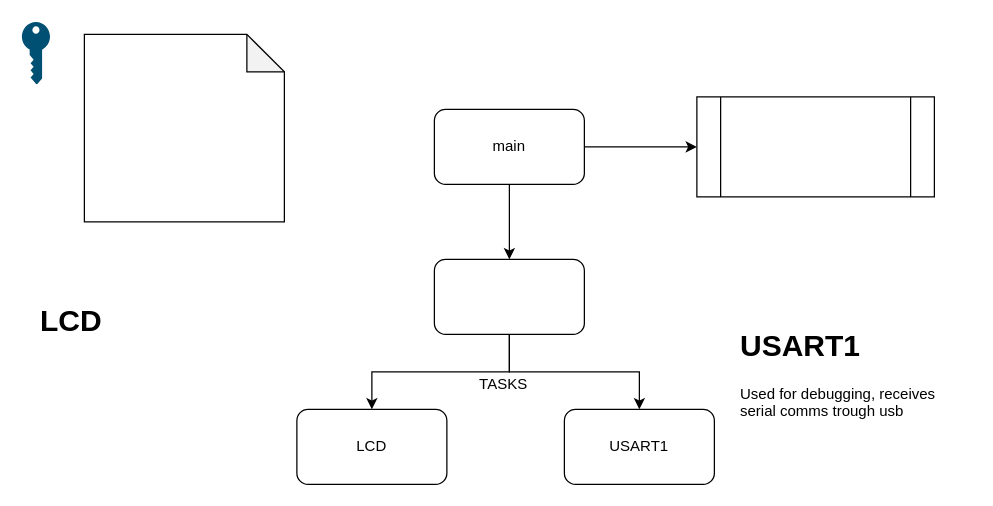
The diagram is 993 pixels wide and 506 high, and some of its shapes have lost their labels. Here are the shapes that lost their labels. From the top down, the centre of each, then its label:
At (x=815, y=146): "HAL_init SystemClock_config Lcd_init BSP_LED_INIT MX_USART1_init".
At (x=508, y=296): "Startup task".
